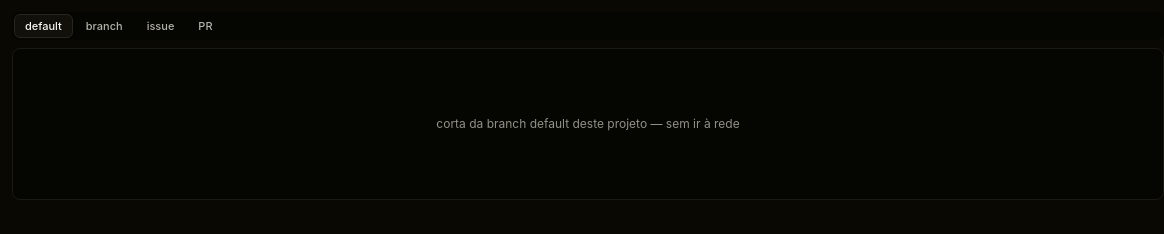
Test: as quatro origens › escolher uma issue sugere o nome
The width and height of the screenshot is (1164, 234).
Click the button "issue" at coordinates (160, 26), box top-left (136, 14), bottom-right (185, 38)
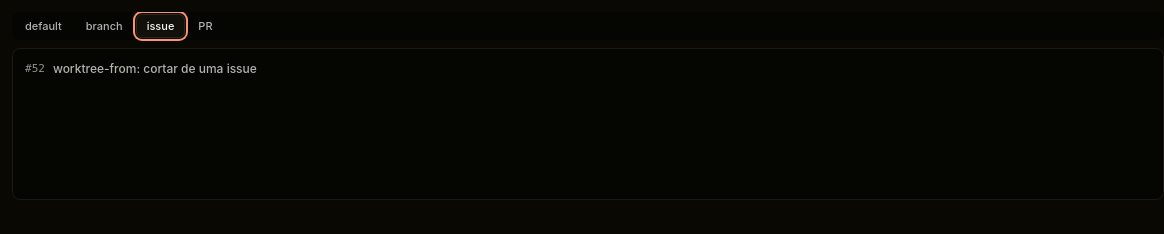
Click the option "#52 worktree-from: cortar de uma issue" at coordinates (155, 68), box top-left (17, 53), bottom-right (1159, 85)
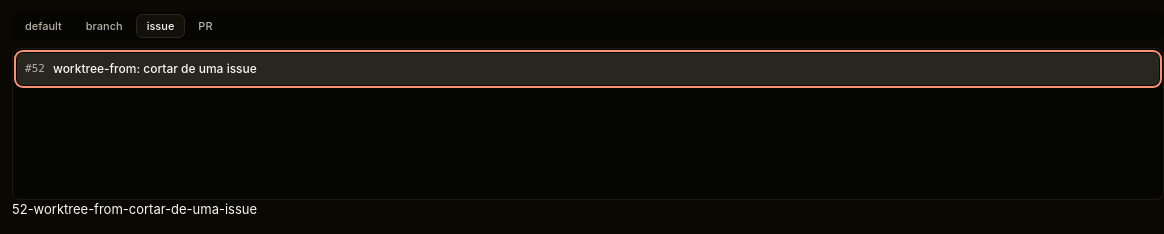
Now the text with test id "suggested" reads "52-worktree-from-cortar-de-uma-issue", box top-left (12, 201), bottom-right (257, 217)
